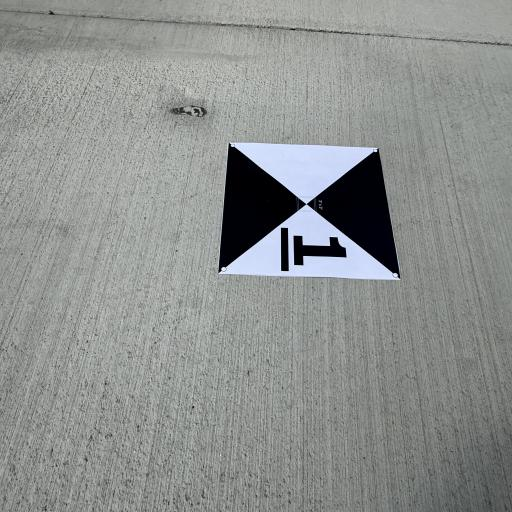target1: (222, 129, 405, 299)
